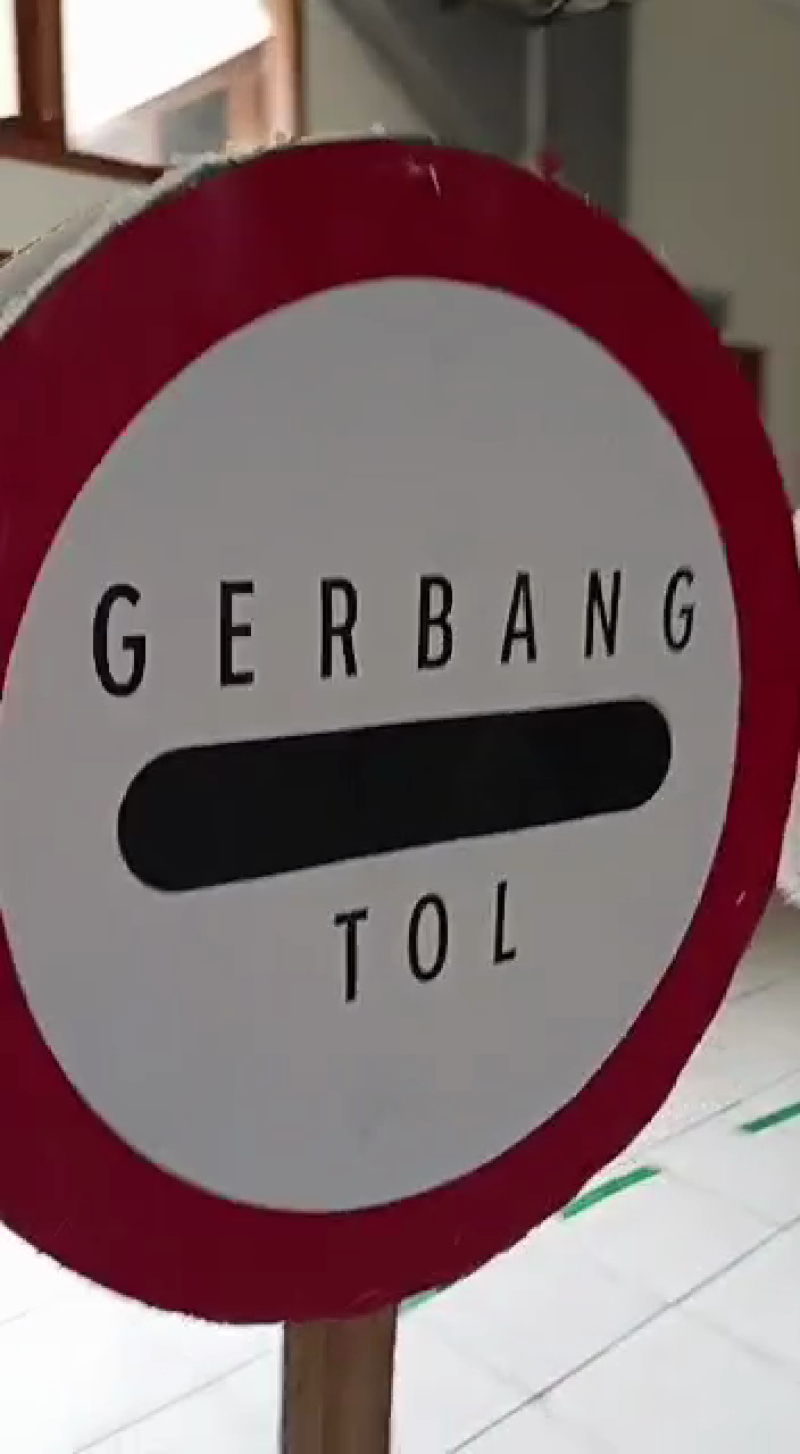gerbang tol: (1, 116, 797, 1322)
